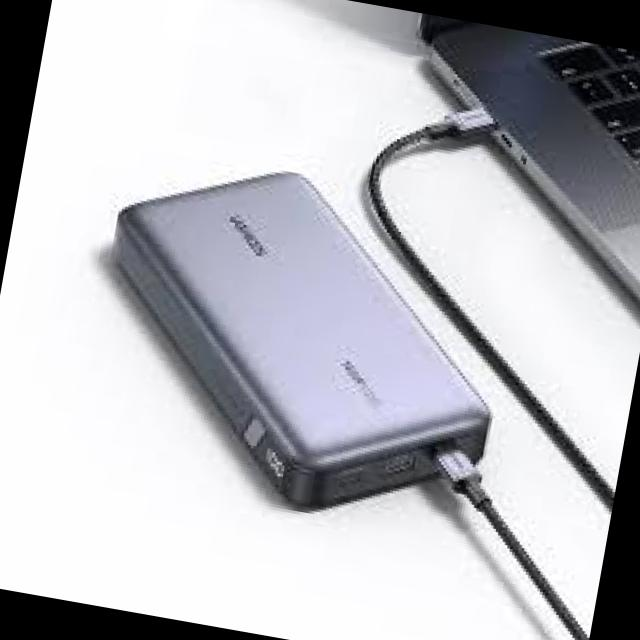portable-charger: (64, 136, 534, 540)
